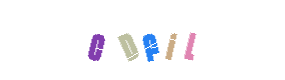C: (56, 0, 136, 80)
D: (97, 0, 177, 80)
F: (102, 0, 182, 80)
I: (110, 0, 190, 80)
L: (115, 0, 195, 80)
